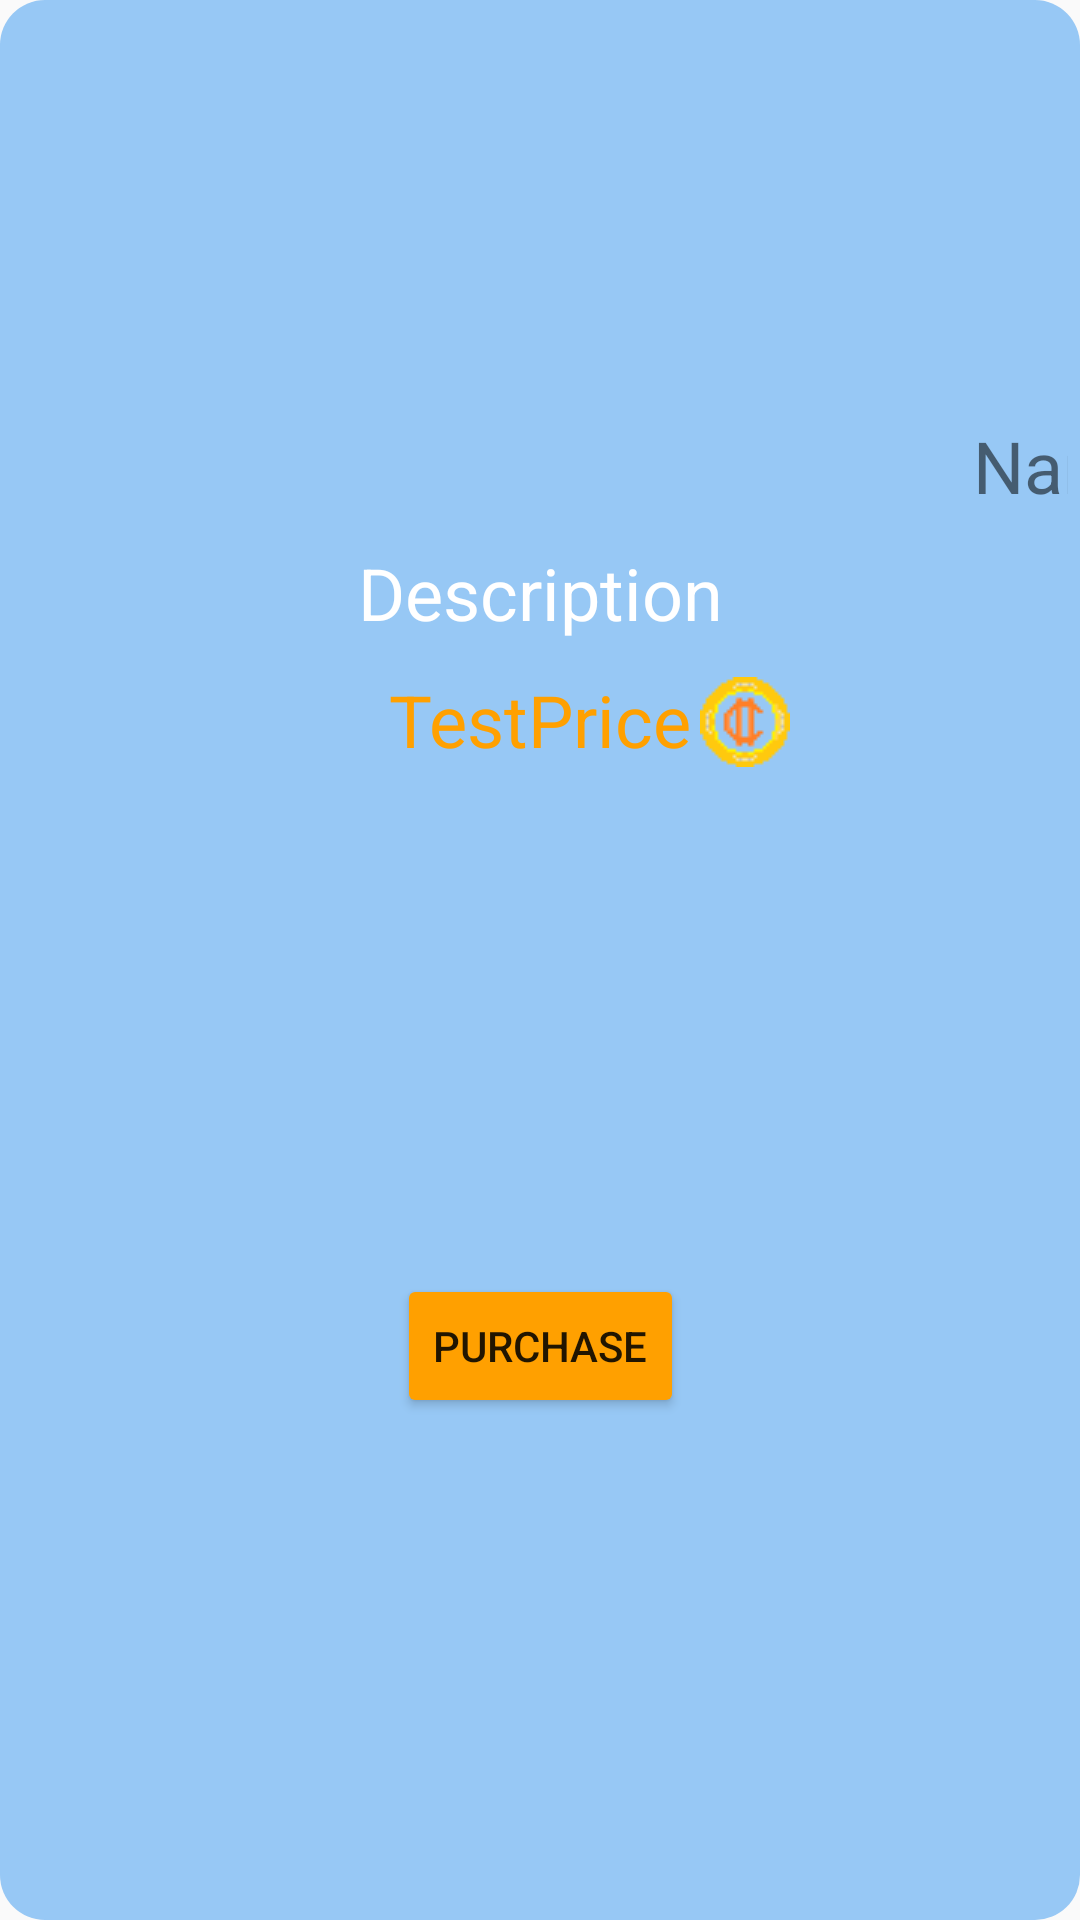

Where to tap for icons on this 1080*1920 app screen, as point (x, y):
currency: point (745, 722)
